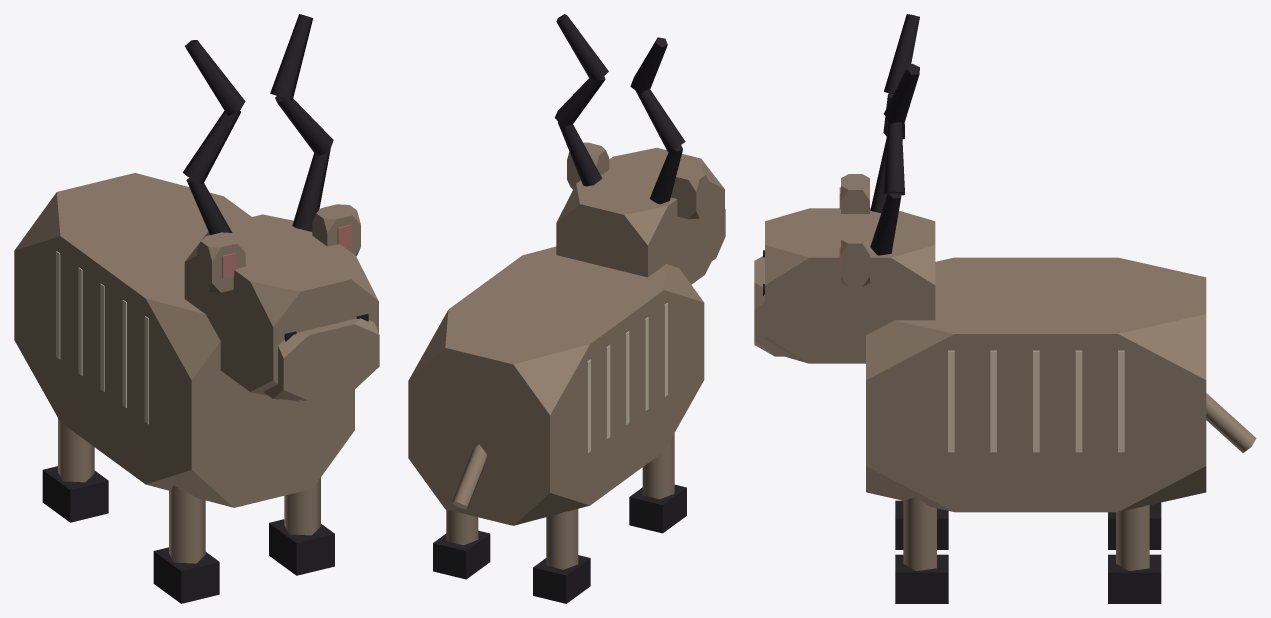
File: original-kudu.glb
3 views of the same model, side by side, from view 1: azimuth 30°, elevation 25°; view 2: azimuth 150°, elevation 25°; view 3: azimuth 270°, elevation 25° (orthographic). The views are drawn at different scales.
Parts seen in each view (by area): view 1: kudu; view 2: kudu; view 3: kudu.
Part boxes in pixels (x1,y1,x2,y2): kudu: (14, 14, 379, 603); kudu: (408, 14, 725, 603); kudu: (754, 14, 1256, 603).
Bounding box in the file's own units: 0.687 × 2.19 × 1.89.
